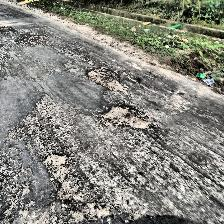pothole: (96, 104, 152, 130), (84, 67, 126, 93), (41, 151, 67, 169), (17, 34, 45, 46), (0, 25, 16, 34)
